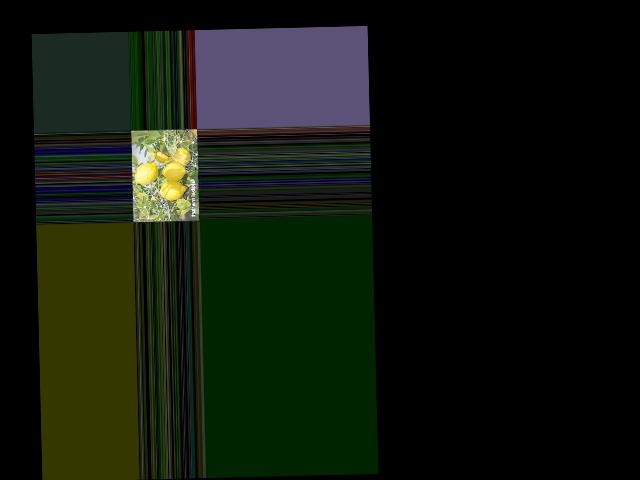lemon: (132, 161, 159, 185)
